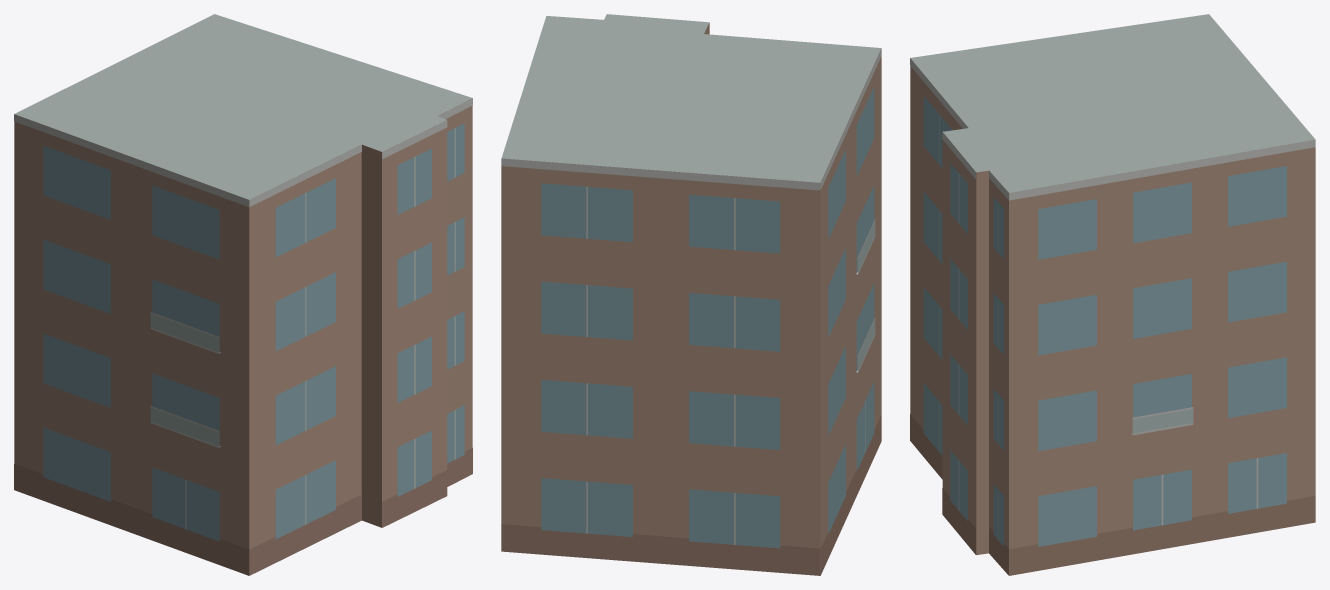
File: survey-upis-32666352.glb
3 renders of one model, left to right at view 1: azimuth 30°, elevation 25°; view 2: azimuth 150°, elevation 25°; view 3: azimuth 270°, elevation 25°, orthographic. The views are drawn at different scales.
Parts seen in each view (by area): view 1: survey-upis-32666352.tmp; view 2: survey-upis-32666352.tmp; view 3: survey-upis-32666352.tmp.
Part boxes in pixels (x1,y1,x2,y2): survey-upis-32666352.tmp: [14, 14, 472, 575]; survey-upis-32666352.tmp: [501, 14, 881, 575]; survey-upis-32666352.tmp: [910, 14, 1315, 575].
Bounding box in the file's own units: 12.55 × 12.5 × 12.01.
